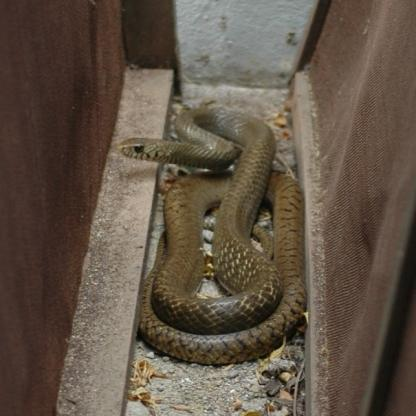Snake: (118, 100, 310, 364)
